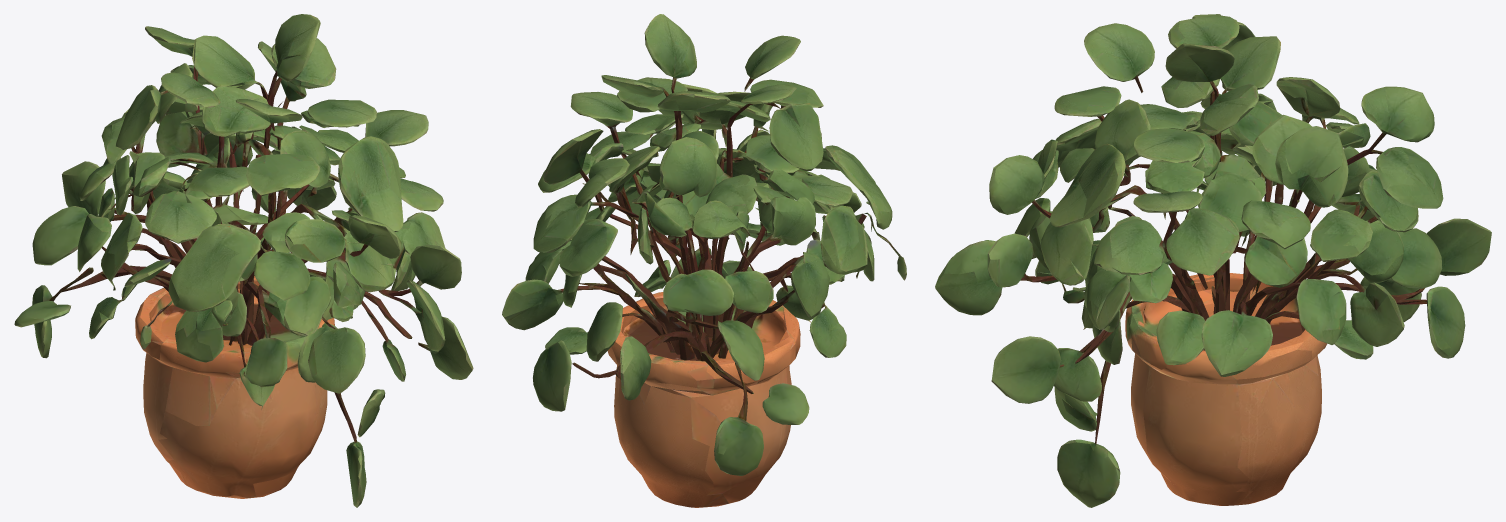
The model's file is plant.glb.
The picture shows the model from 3 angles, left to right: view 1: azimuth 30°, elevation 25°; view 2: azimuth 150°, elevation 25°; view 3: azimuth 270°, elevation 25°; orthographic projection. The views are drawn at different scales.
Size of the model in its own units: 1.36 by 1.77 by 1.9.
Materials: 1 (1 with a texture image).
